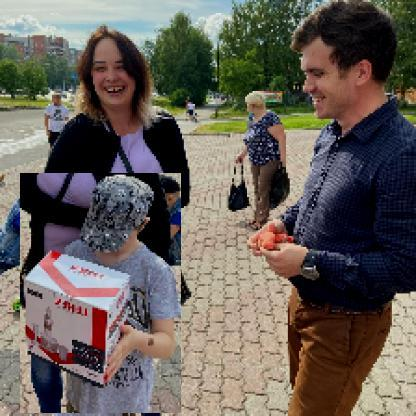child: (21, 174, 183, 415)
